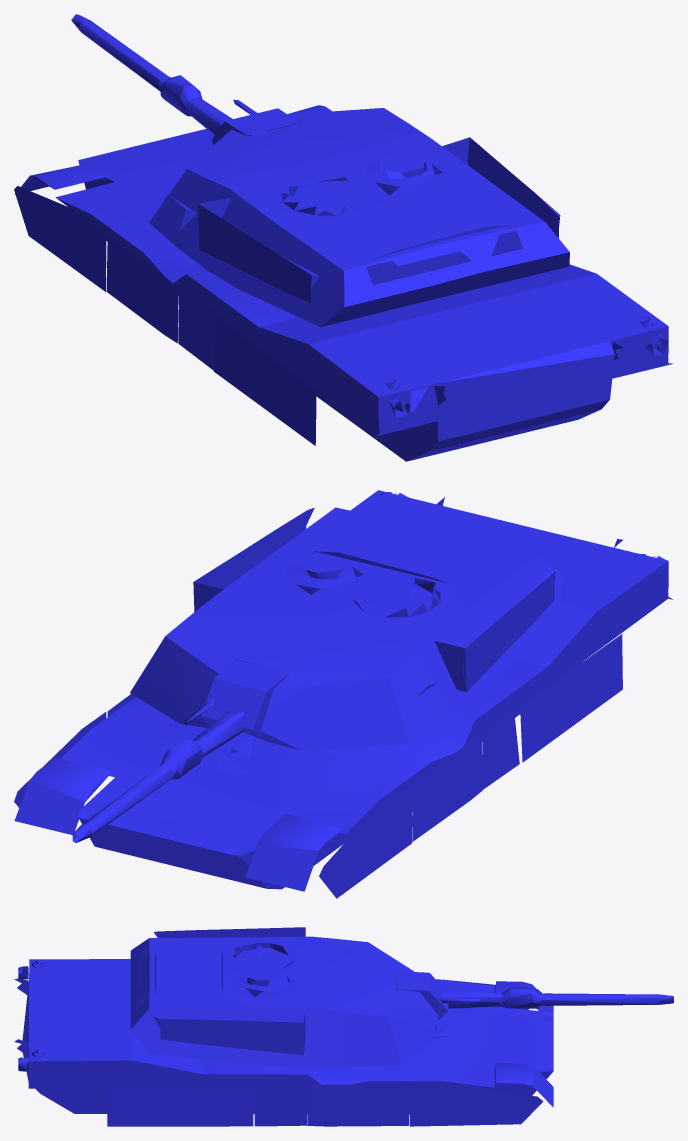
File: mfps-tank-collider.fbx
The picture shows the model from 3 angles, top to bottom: view 1: azimuth 30°, elevation 25°; view 2: azimuth 150°, elevation 25°; view 3: azimuth 270°, elevation 25°; orthographic projection. The views are drawn at different scales.
Visible parts, largest first — view 1: m1Abrams, Top, Cannon; view 2: m1Abrams, Top, Cannon; view 3: m1Abrams, Top, Cannon.
Boxes of the visible parts, left/top/right/bottom form: m1Abrams: left=14, top=105, right=673, bottom=461; Top: left=149, top=108, right=569, bottom=327; Cannon: left=71, top=14, right=299, bottom=144; m1Abrams: left=14, top=490, right=673, bottom=898; Top: left=130, top=507, right=562, bottom=750; Cannon: left=72, top=660, right=289, bottom=842; m1Abrams: left=14, top=959, right=553, bottom=1126; Top: left=130, top=927, right=438, bottom=1067; Cannon: left=396, top=971, right=673, bottom=1019.
Size of the model in its own units: 3.73 by 2.01 by 9.58.
